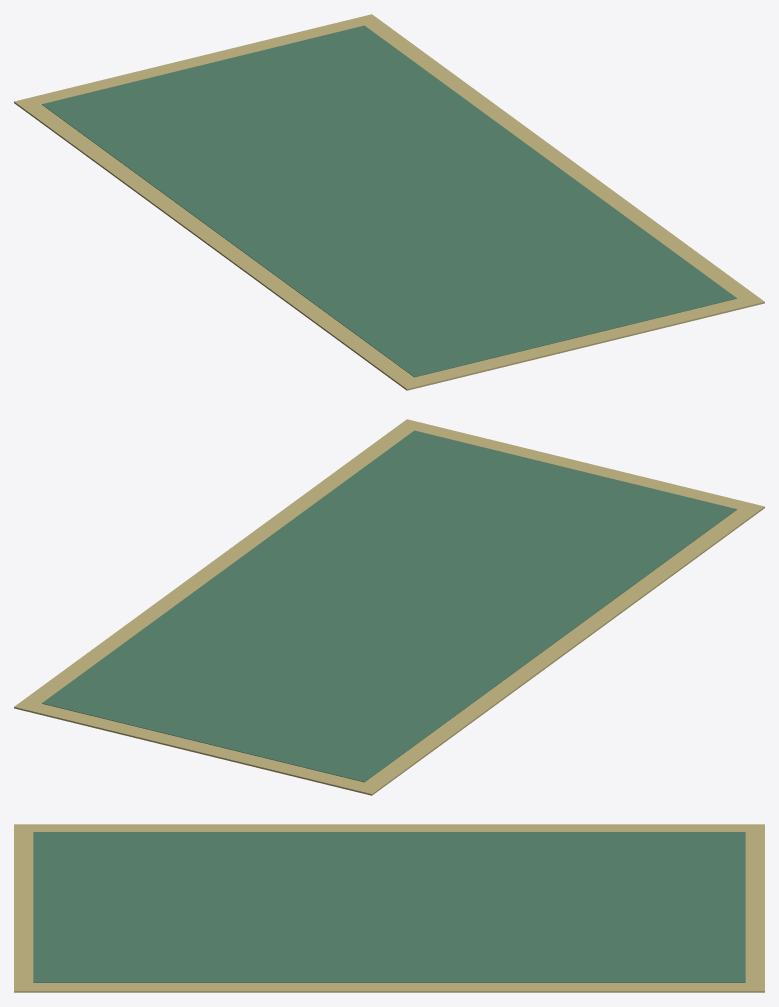
File: ritual_rug.glb
3 views of the same model, one above another, from view 1: azimuth 30°, elevation 25°; view 2: azimuth 150°, elevation 25°; view 3: azimuth 270°, elevation 25° (orthographic). The views are drawn at different scales.
Visible parts, largest first — view 1: ritual_rug; view 2: ritual_rug; view 3: ritual_rug.
Part boxes in pixels (bbox=[...]): ritual_rug: bbox=[14, 14, 764, 390]; ritual_rug: bbox=[14, 419, 764, 795]; ritual_rug: bbox=[14, 824, 764, 992].
Bounding box in the file's own units: 3.55 × 0.02 × 6.75.
